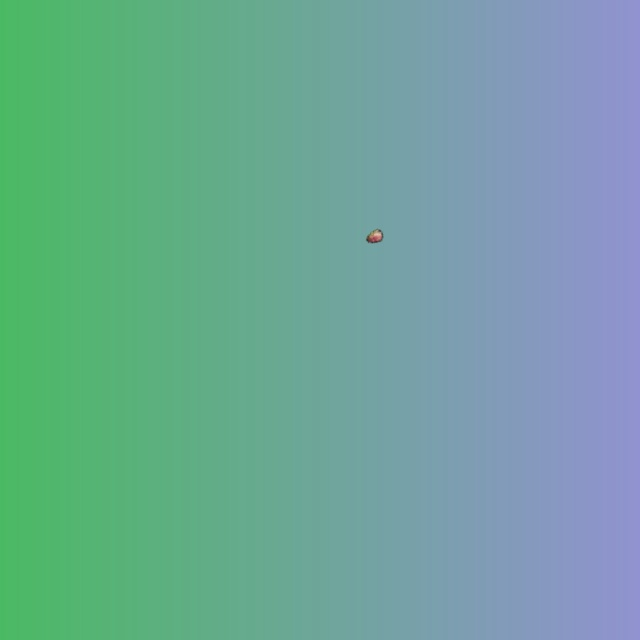rose: (367, 229, 382, 242)
